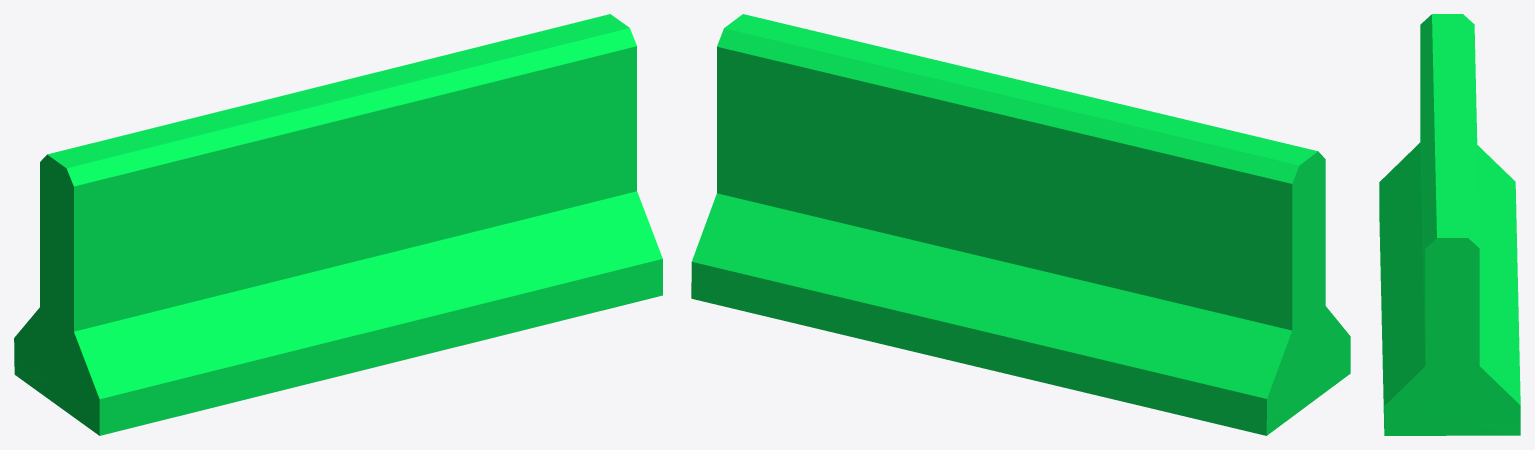
File: Side_blocks_02.fbx
The picture shows the model from 3 angles, left to right: view 1: azimuth 30°, elevation 25°; view 2: azimuth 150°, elevation 25°; view 3: azimuth 270°, elevation 25°; orthographic projection. The views are drawn at different scales.
Parts seen in each view (by area): view 1: 3; view 2: 3; view 3: 3.
Boxes of the visible parts, x1,y1,x2,y2 form: 3: [14, 14, 662, 435]; 3: [691, 14, 1350, 435]; 3: [1379, 14, 1520, 435].
Size of the model in its own units: 118 by 48.6 by 31.52.
